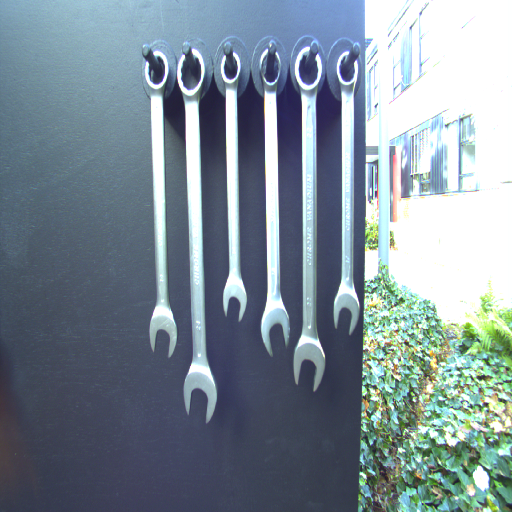bottom: (292, 335, 328, 396), (182, 364, 217, 426), (258, 300, 290, 357), (146, 304, 179, 359), (333, 283, 361, 338), (220, 276, 248, 322)
top: (292, 44, 326, 96), (174, 48, 207, 99), (142, 47, 172, 97), (333, 48, 363, 91), (258, 46, 281, 90), (220, 50, 244, 89)
